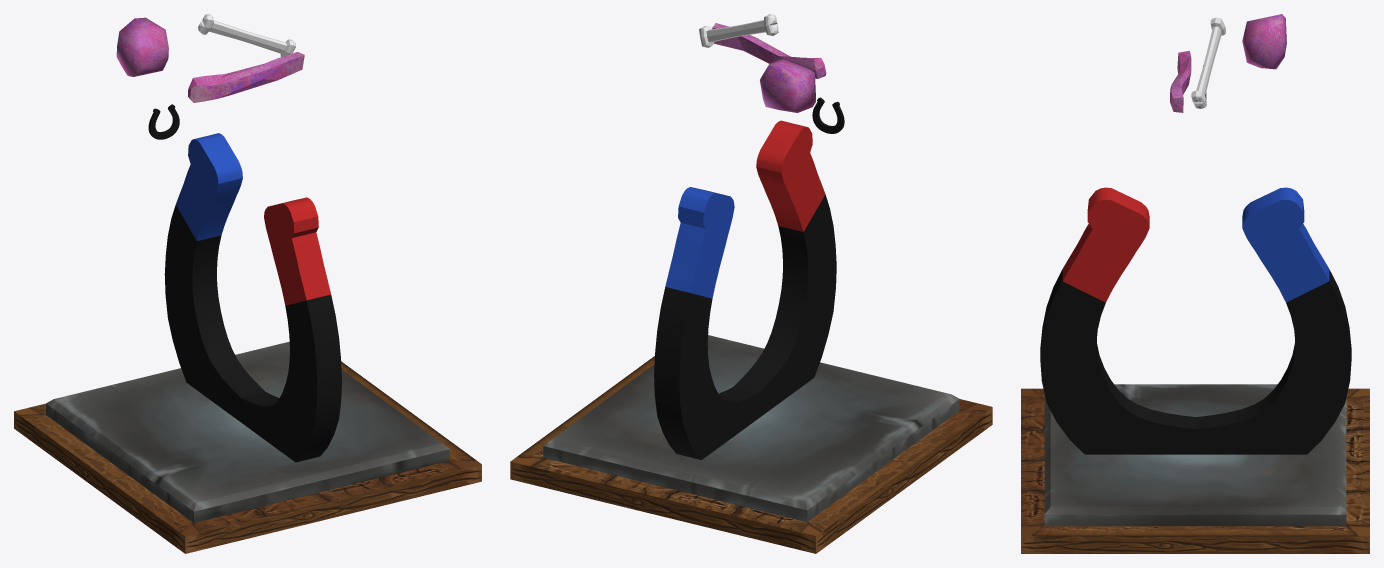
Rendered from giblets.fbx.
The picture shows the model from 3 angles, left to right: view 1: azimuth 30°, elevation 25°; view 2: azimuth 150°, elevation 25°; view 3: azimuth 270°, elevation 25°; orthographic projection. The views are drawn at different scales.
Parts seen in each view (by area): view 1: ButtonTop, Magnet, ButtonBase, Cube, Gib1, Bone, Horseshoe; view 2: ButtonTop, Magnet, ButtonBase, Gib1, Cube, Bone, Horseshoe; view 3: Magnet, ButtonTop, ButtonBase, Gib1, Bone, Cube.
Part boxes in pixels (x1,y1,x2,y2): ButtonTop: (46,341,449,522); Magnet: (164,133,341,462); ButtonBase: (14,361,481,553); Cube: (188,52,304,102); Gib1: (116,17,168,76); Bone: (198,14,295,56); Horseshoe: (148,104,179,139); ButtonTop: (543,335,959,521); Magnet: (654,120,836,459); ButtonBase: (510,356,992,553); Gib1: (760,59,815,112); Cube: (712,23,826,78); Bone: (699,14,778,47); Horseshoe: (812,97,844,133); Magnet: (1040,187,1351,454); ButtonTop: (1044,384,1346,526); ButtonBase: (1021,388,1369,553); Gib1: (1242,14,1286,69); Bone: (1191,17,1225,108); Cube: (1170,51,1191,112).
Bounding box in the file's own units: 200 × 283 × 200.
